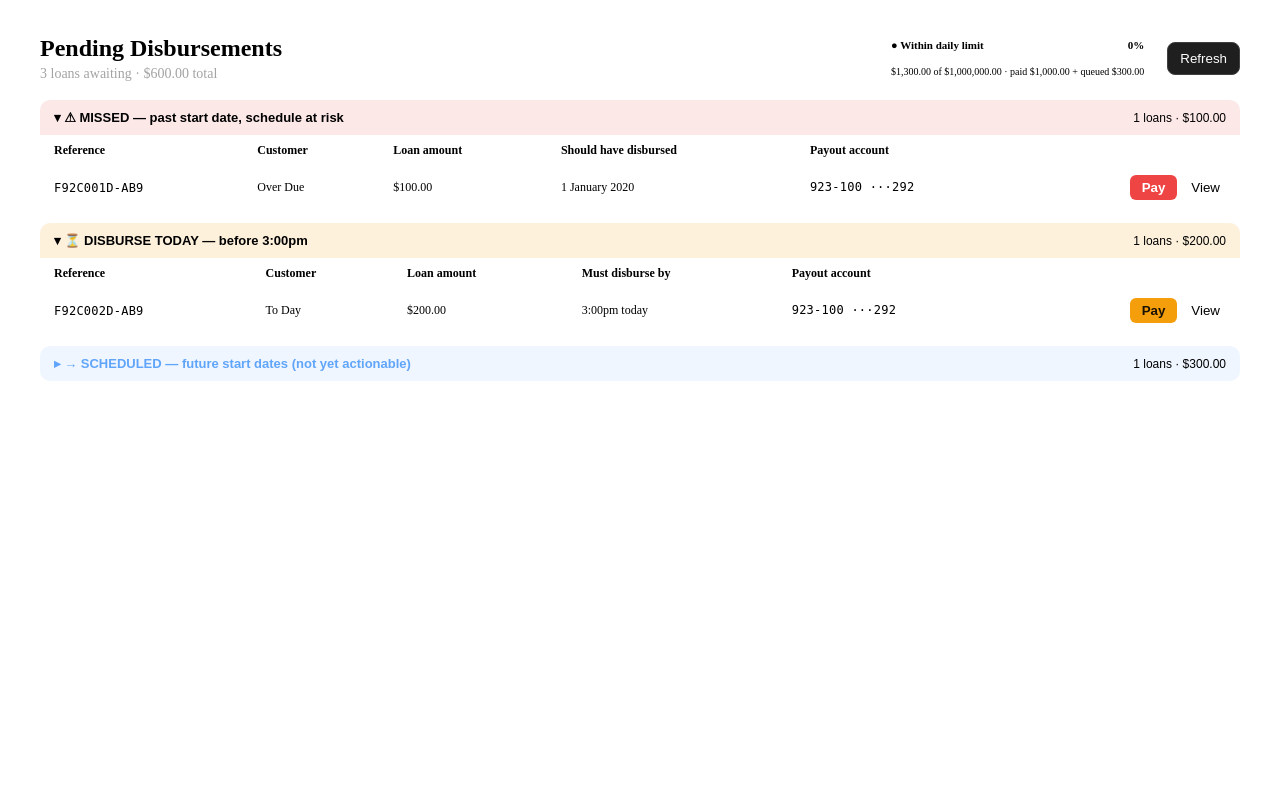
PendingDisbursementsView › opens the payment panel for a today loan without warning
Expected: the element with test id "section-today" is shown, [40,223,1240,332]
What coordinates should you click on to do the following:
click the button with test id "toggle-payment-a2"
I would click on:
 (1153, 310)
Its box is [1130,298,1177,323].
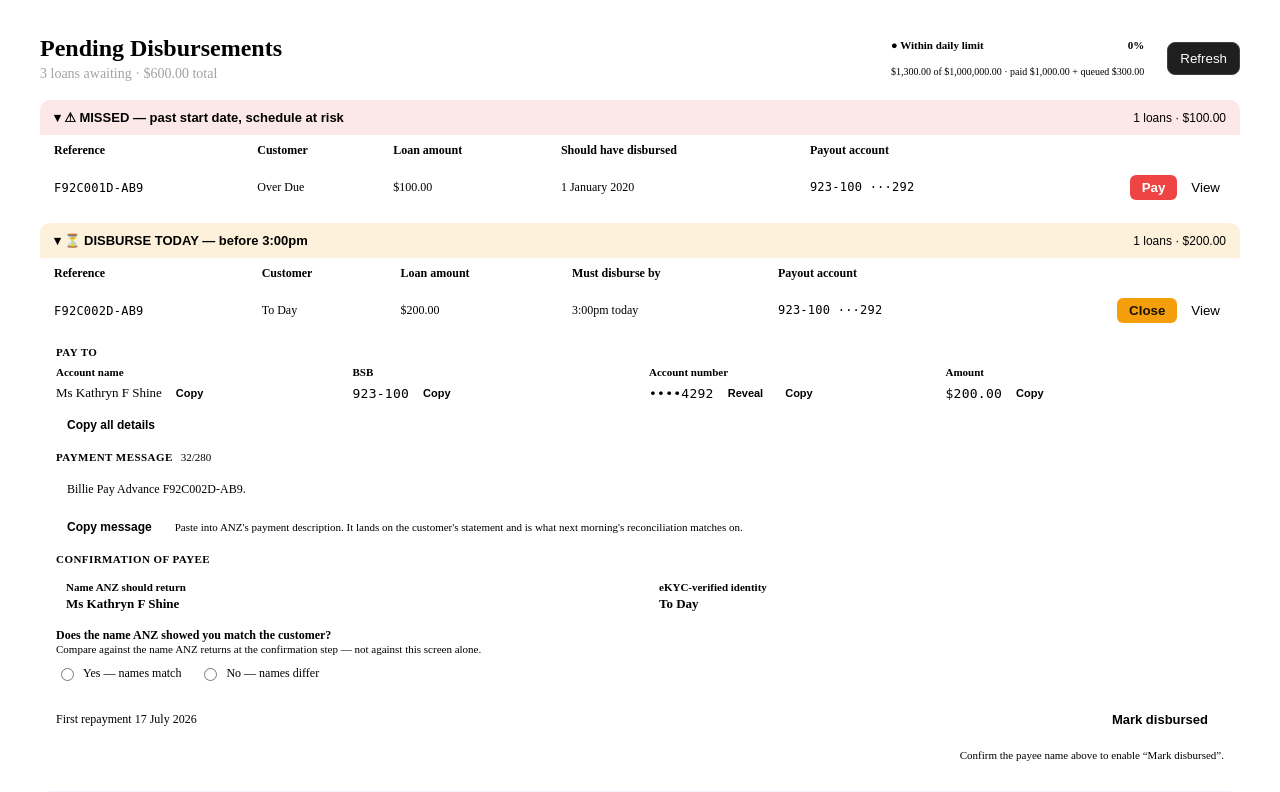
Expected: the text "Billie Pay Advance F92C002D-AB9." is shown, [67,482,246,496]
